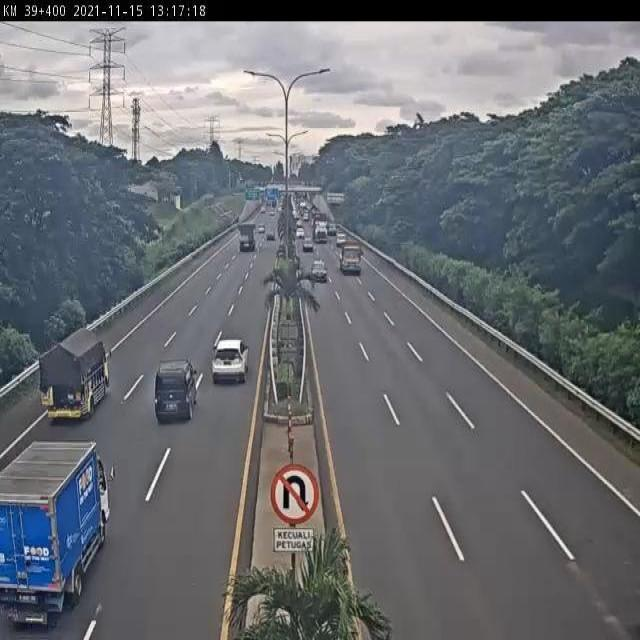Car: (212, 338, 249, 382), (310, 258, 329, 282), (302, 236, 314, 252), (266, 230, 276, 241)
Truck: (0, 439, 116, 629), (40, 328, 111, 422), (336, 240, 364, 274), (310, 212, 329, 245), (237, 223, 257, 253)
Van: (153, 359, 197, 422)
